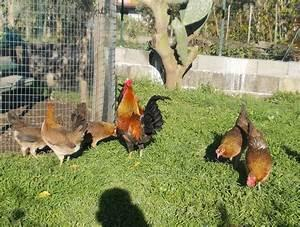hen: (105, 75, 172, 162), (40, 100, 88, 166)
